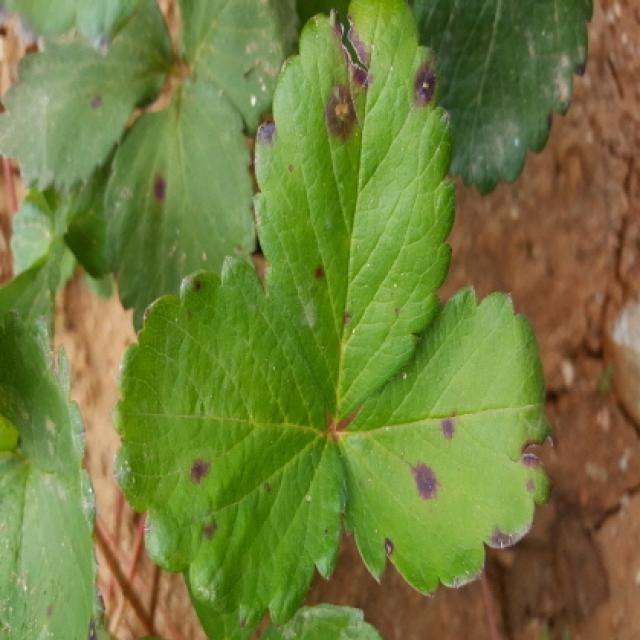Leaf Spot: (252, 0, 457, 429), (111, 256, 346, 628), (332, 283, 559, 600), (104, 77, 258, 335), (0, 310, 121, 638), (0, 41, 137, 194)
